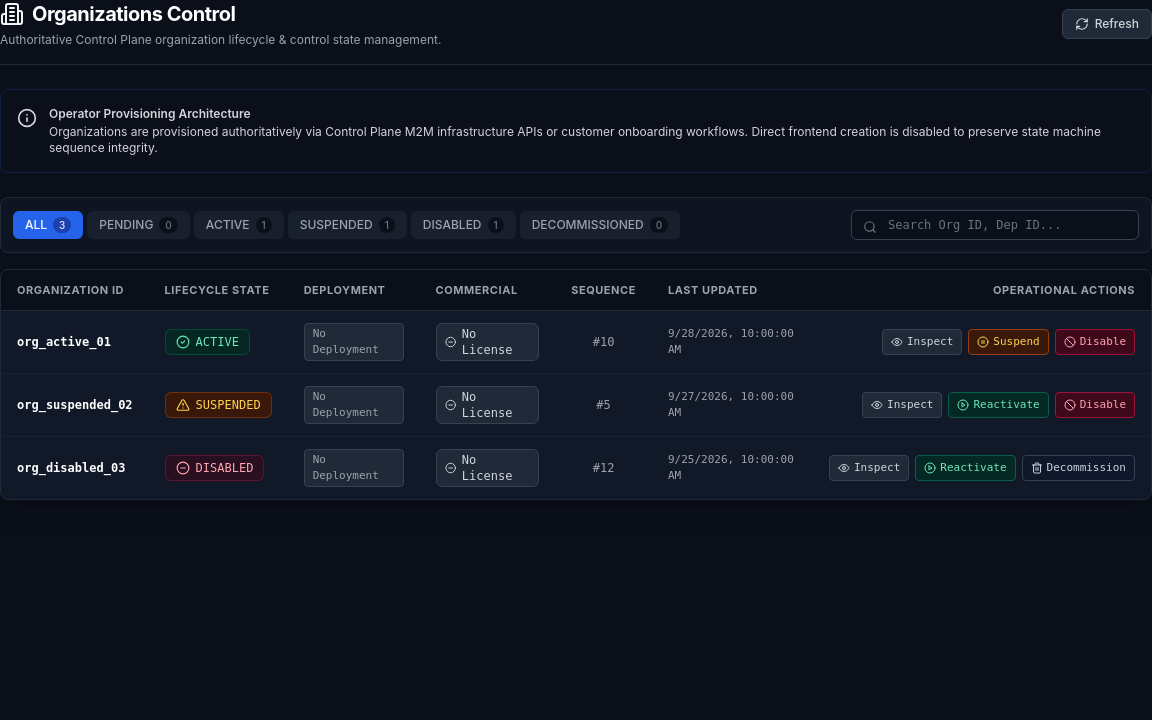
Test: CP-6.2 Organizations UI & Lifecycle Control › Organization List Page (/organizations) › 7. should open confirmation dialog for Suspend action and require >= 10 char reason
Check: the text "org_active_01" is shown, box [17,334,111,350]
Click the button titled "Suspend organization" at [1008, 342], box [968,329,1049,355]
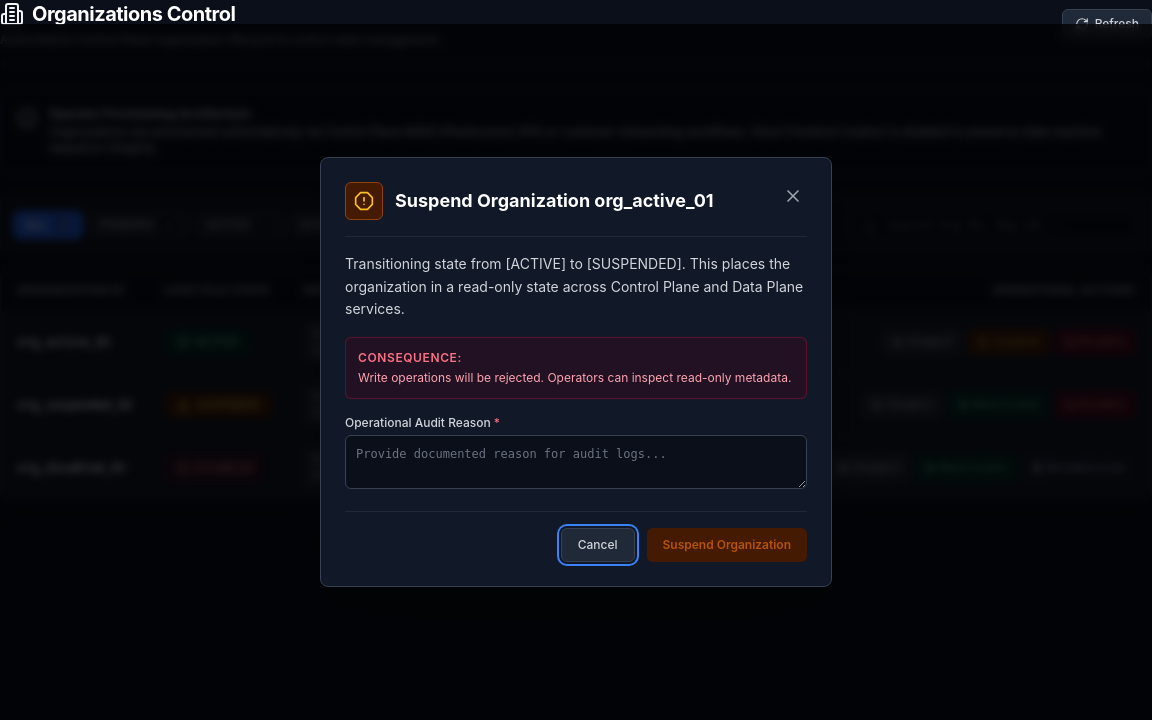
Check: the heading "Suspend Organization org_active_01" is shown, box [395,187,714,215]
Check: the button "Suspend Organization" is disabled, box [646,528,807,562]
Type "Short" into the text box with placeholder "Provide documented reason for audit logs..." at [576, 462], box [345,435,807,489]
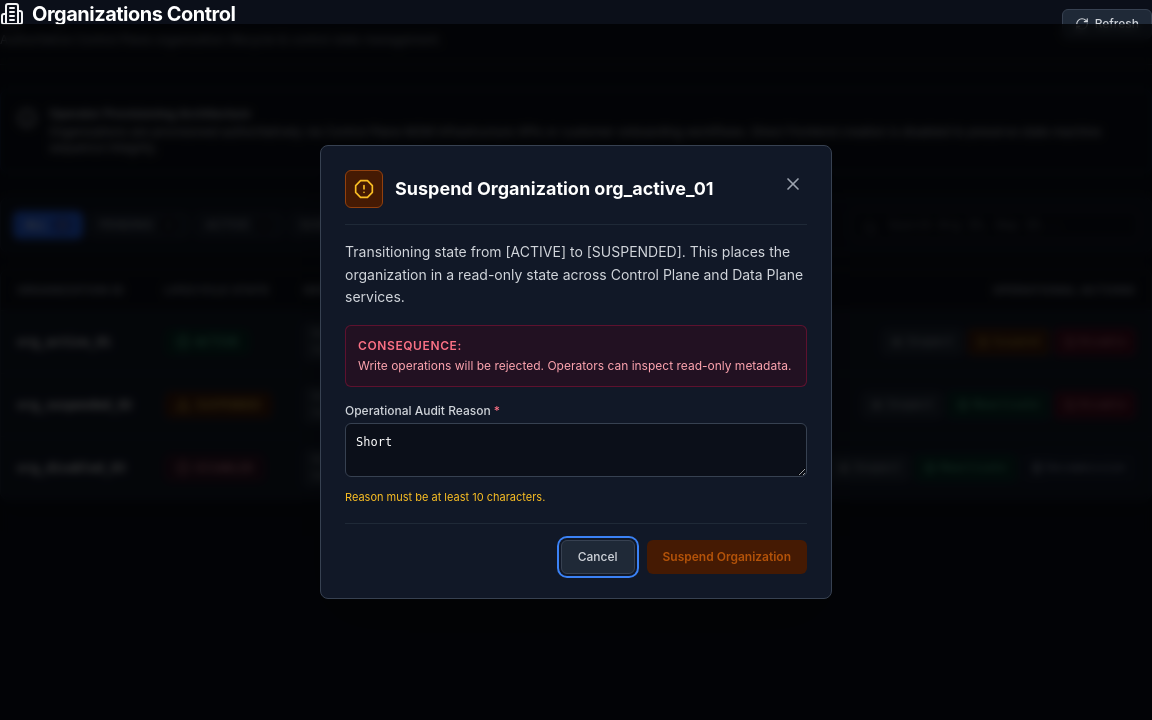
Check: the button "Suspend Organization" is disabled, box [646,540,807,574]
Replace the text in the text box with placeholder "Provide documented reason for audit logs..." with "Compliance audit investigation in progress" at [576, 450], box [345,423,807,477]
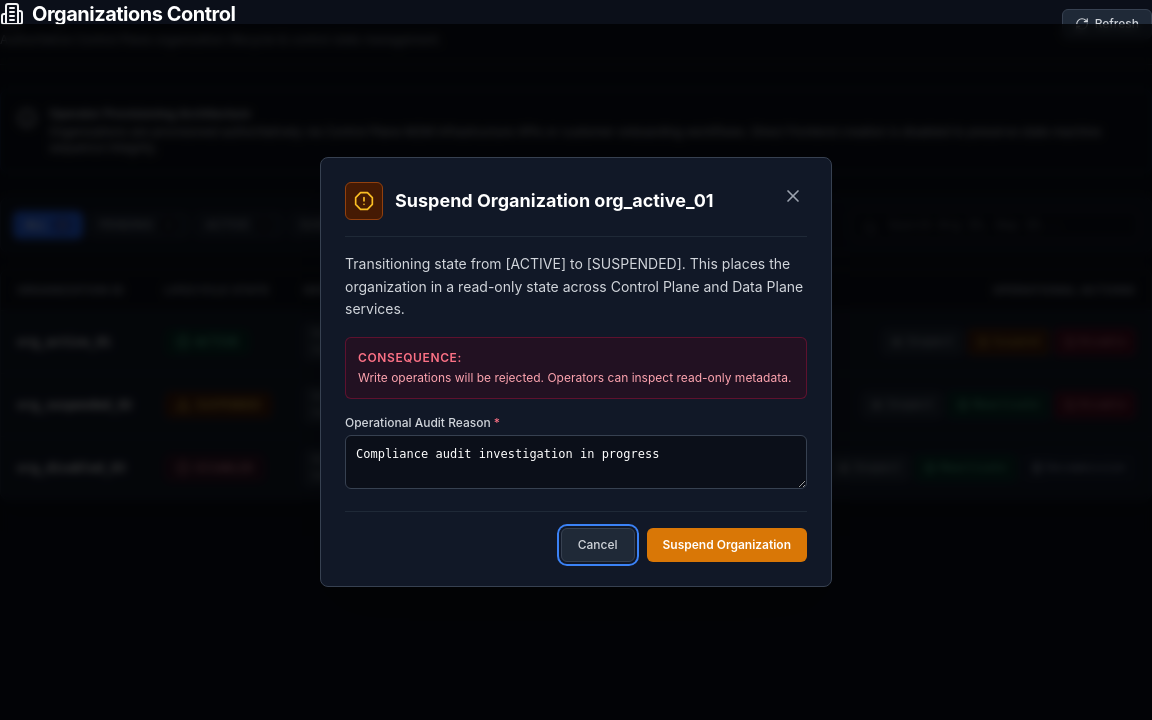
Check: the button "Suspend Organization" is enabled, box [646,528,807,562]
